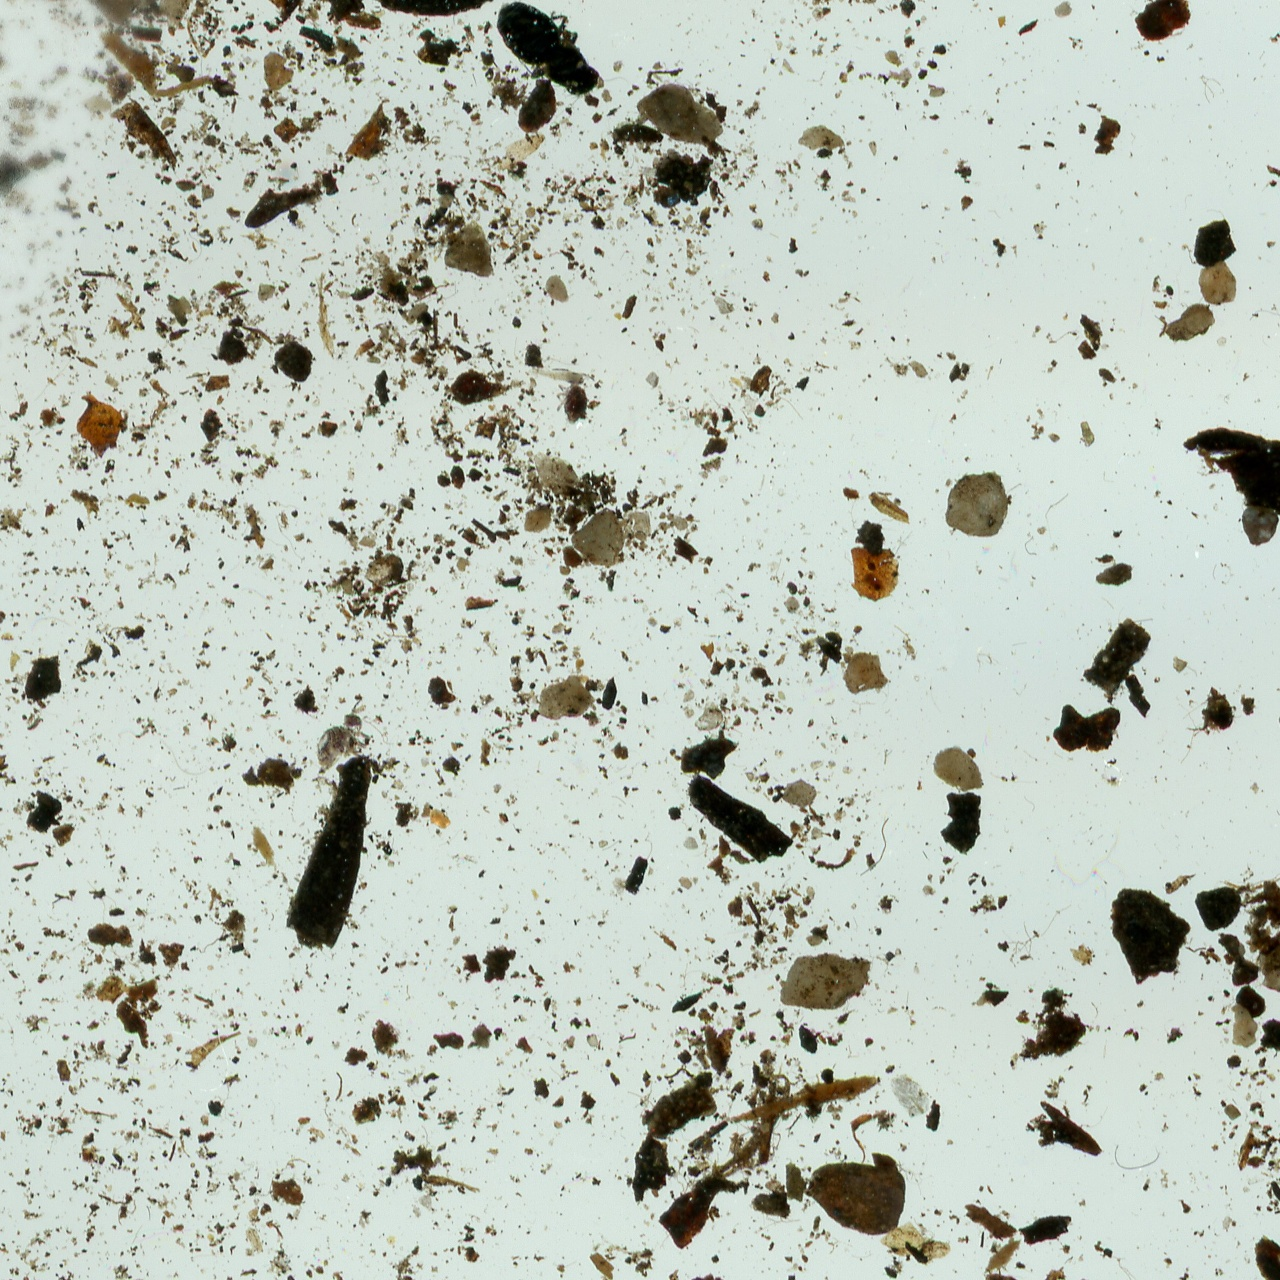arthropod: (476, 0, 640, 130), (303, 689, 389, 787)
